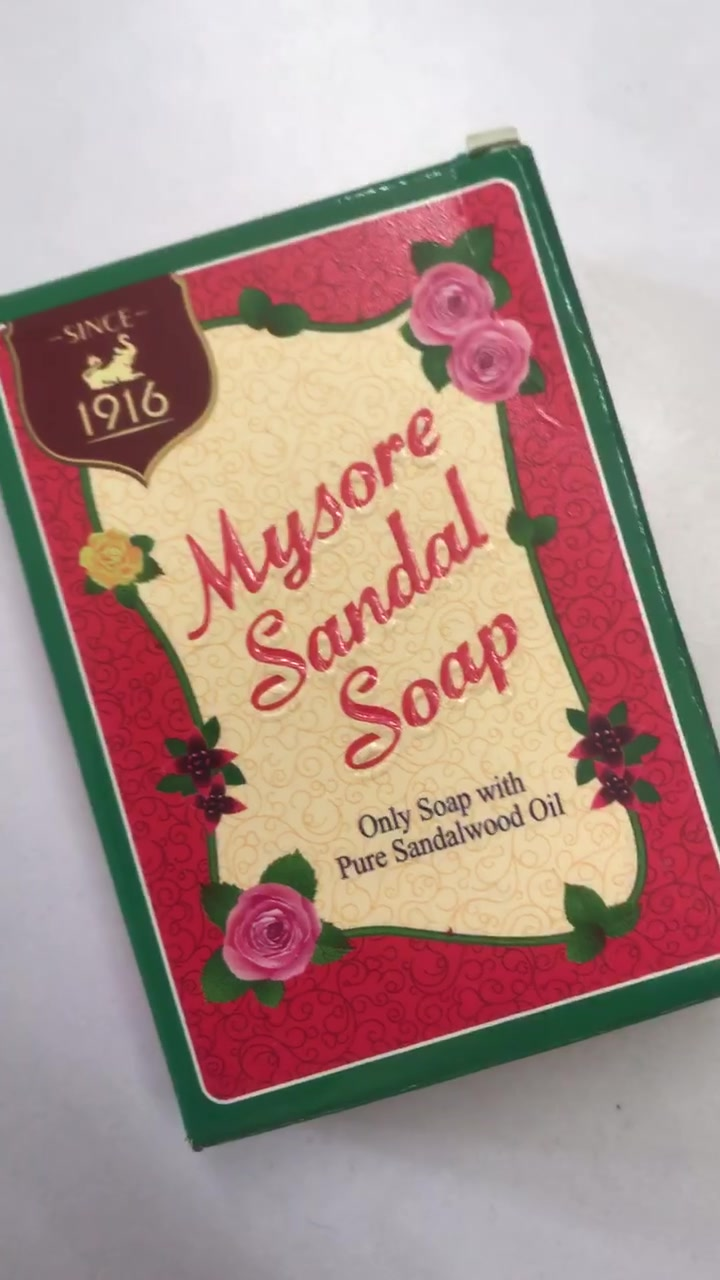mysore sandal soap: (87, 335, 685, 1043)
